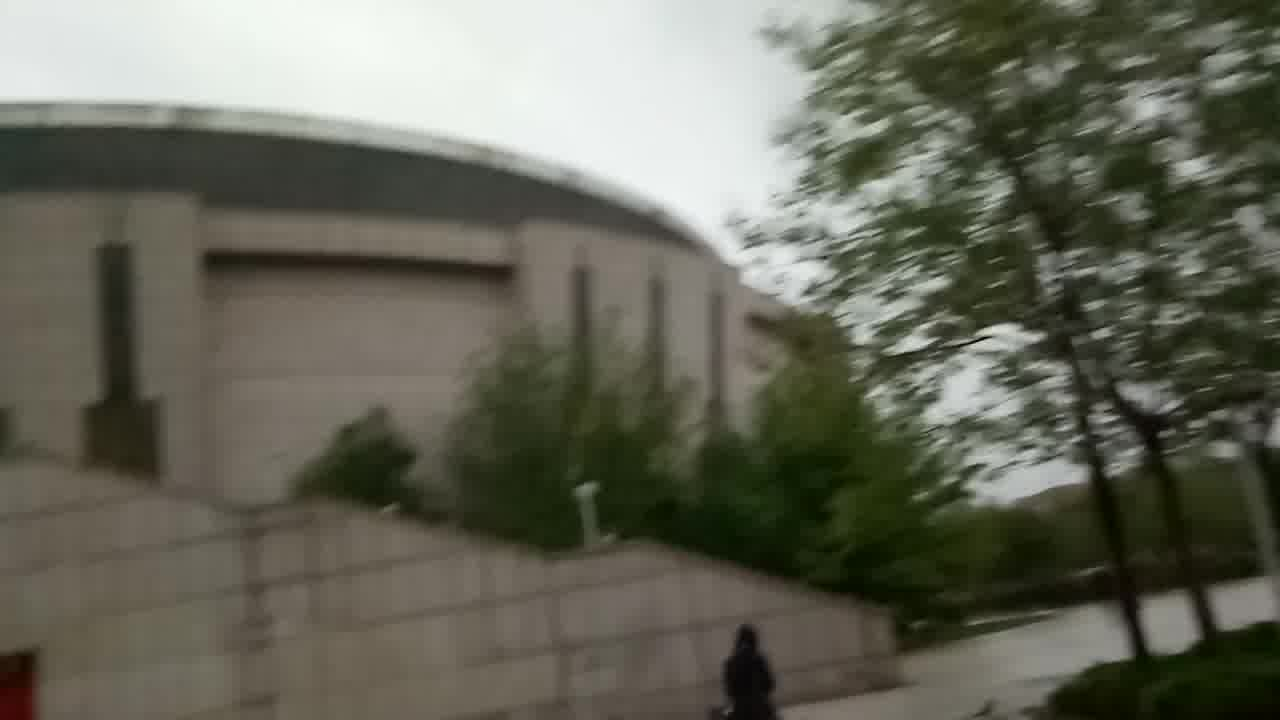zhongtiww: (6, 101, 905, 720)
